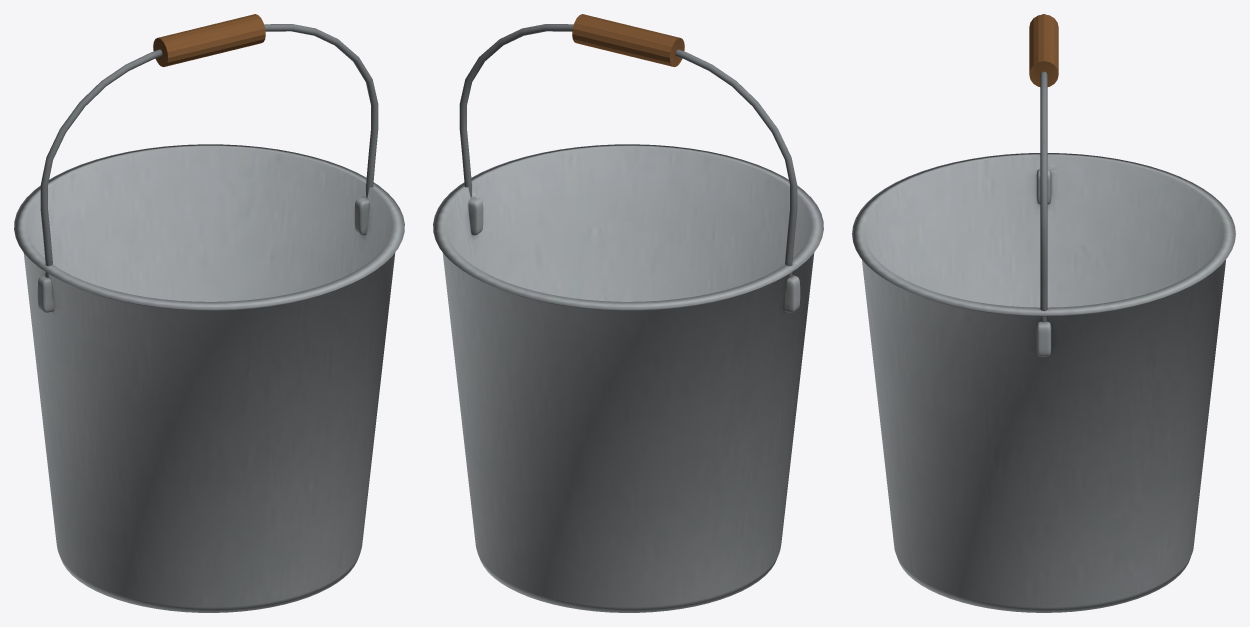
File: galvanized.glb
3 renders of one model, left to right at view 1: azimuth 30°, elevation 25°; view 2: azimuth 150°, elevation 25°; view 3: azimuth 270°, elevation 25°, orthographic.
Visible parts, largest first — view 1: galvanized, steel_wire, wood_x; view 2: galvanized, steel_wire, wood_x; view 3: galvanized, steel_wire, wood_x.
Boxes of the visible parts, x1,y1,x2,y2 form: galvanized: (14, 144, 404, 612); steel_wire: (40, 24, 378, 277); wood_x: (153, 14, 265, 66); galvanized: (433, 144, 823, 612); steel_wire: (459, 24, 797, 277); wood_x: (572, 14, 684, 66); galvanized: (852, 153, 1235, 612); steel_wire: (1040, 14, 1047, 322); wood_x: (1029, 14, 1058, 86).
Bounding box in the file's own units: 0.312 × 0.46 × 0.312.
Materials: 3 (3 with a texture image).
